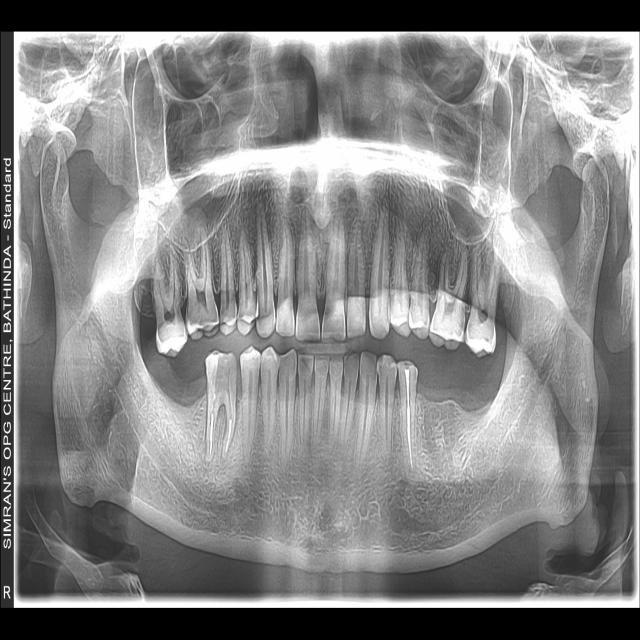Caries: (214, 351, 237, 403)
Mandibular Canal: (403, 319, 568, 536), (89, 305, 248, 515)
Missing teeth: (417, 359, 490, 411), (155, 354, 206, 407)
Periapical lesion: (204, 452, 215, 466)
Root Canal Treatment: (405, 369, 413, 469), (225, 419, 232, 452), (210, 413, 214, 455)
